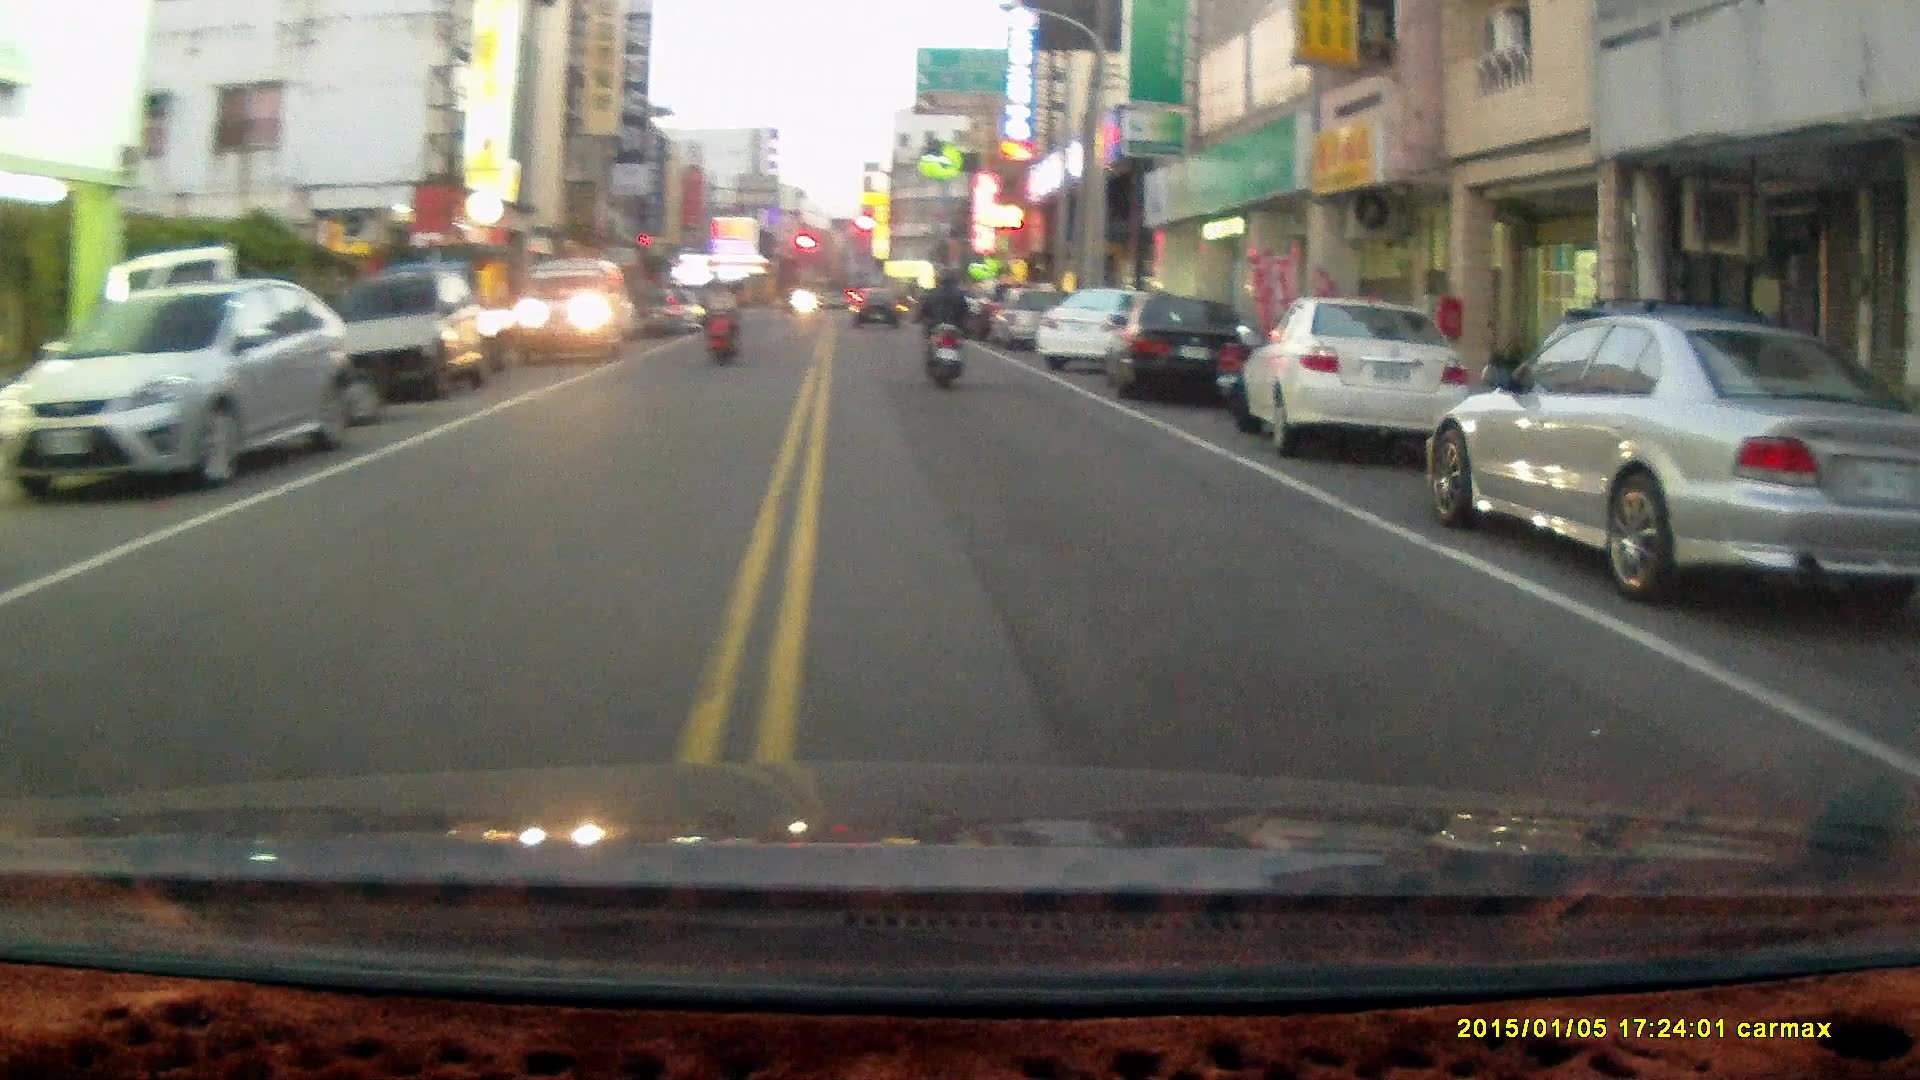rider: (916, 268, 967, 392), (704, 280, 741, 369)
vehicle: (1432, 310, 1917, 607), (7, 278, 347, 498), (1225, 297, 1474, 455), (331, 270, 481, 406), (1106, 291, 1251, 405), (514, 255, 631, 368), (1033, 287, 1169, 375)
